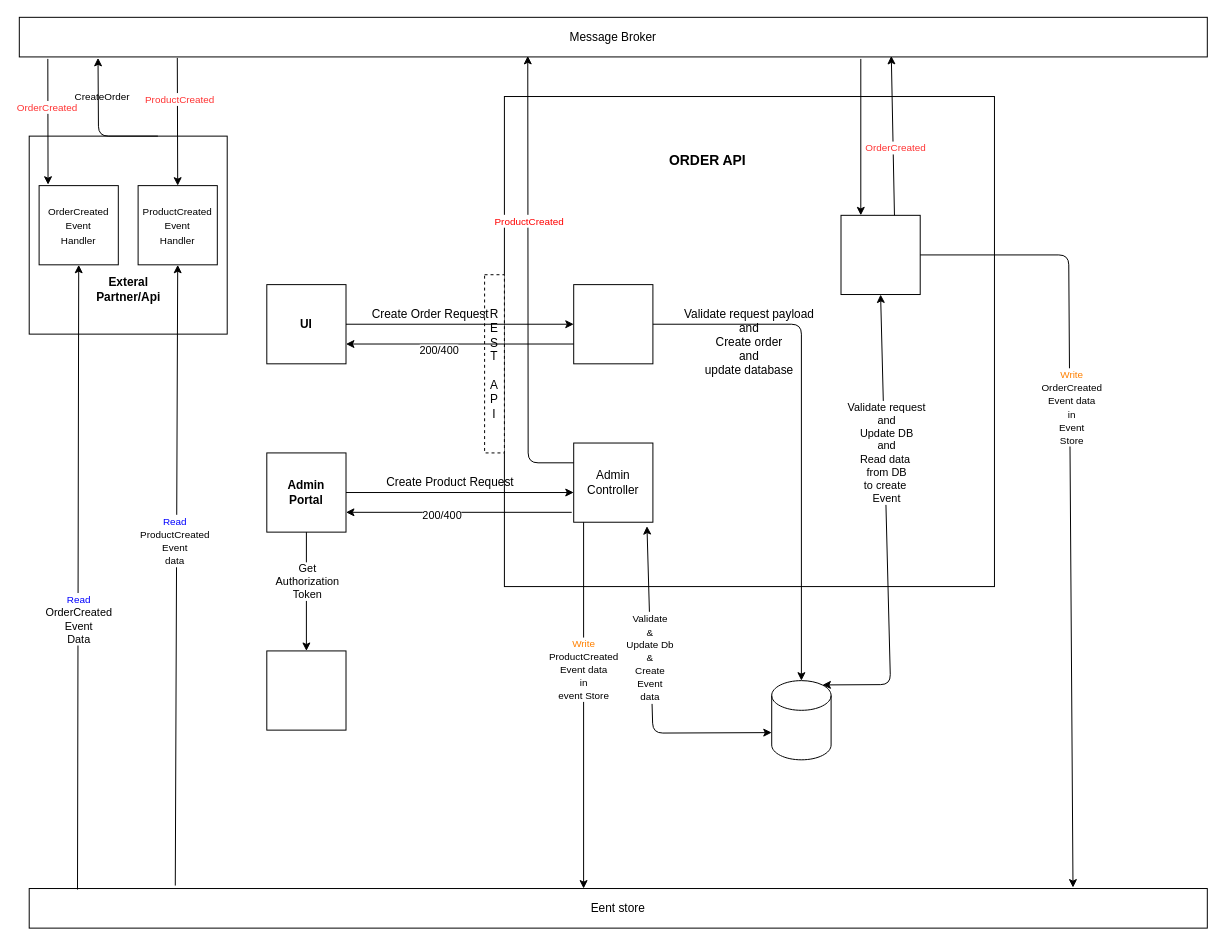
Some shapes in this 1225 by 945 pixel diagram are drawn without their labels. Here are the shapes that lost their labels. From the top down, the centre of each, then its label:
(x=880, y=254): Create Order Request Handler
(x=613, y=324): Order Controller
(x=306, y=690): Authentication Server
(x=801, y=720): SQL
